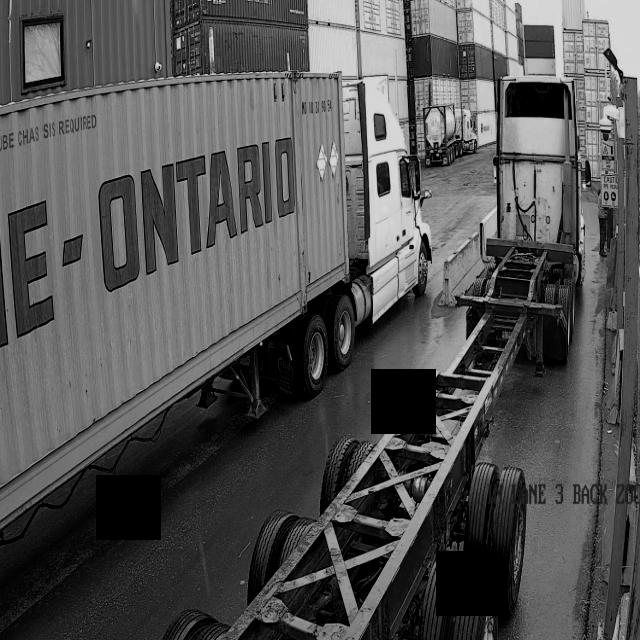container_company_logo: (0, 113, 295, 359)
truck_with_container: (0, 74, 433, 542)
truck_without_container: (222, 76, 590, 640)
